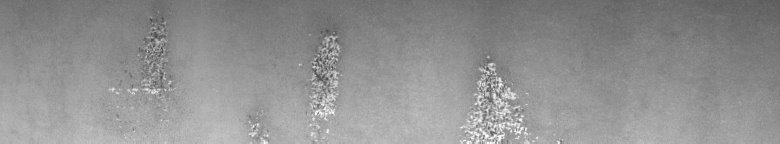hc: (109, 12, 176, 102)
